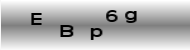6: (105, 8, 118, 23)
B: (58, 23, 74, 38)
E: (30, 12, 43, 25)
g: (123, 9, 137, 24)
p: (89, 26, 103, 41)
